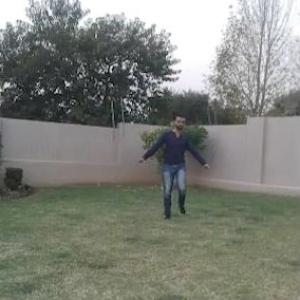land: (138, 100, 216, 227)
